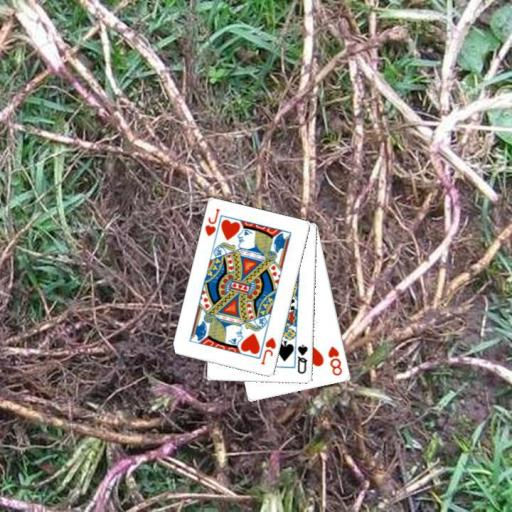8H: (325, 343, 344, 378)
JH: (258, 334, 278, 366), (202, 206, 221, 238)
QS: (295, 342, 310, 376)
